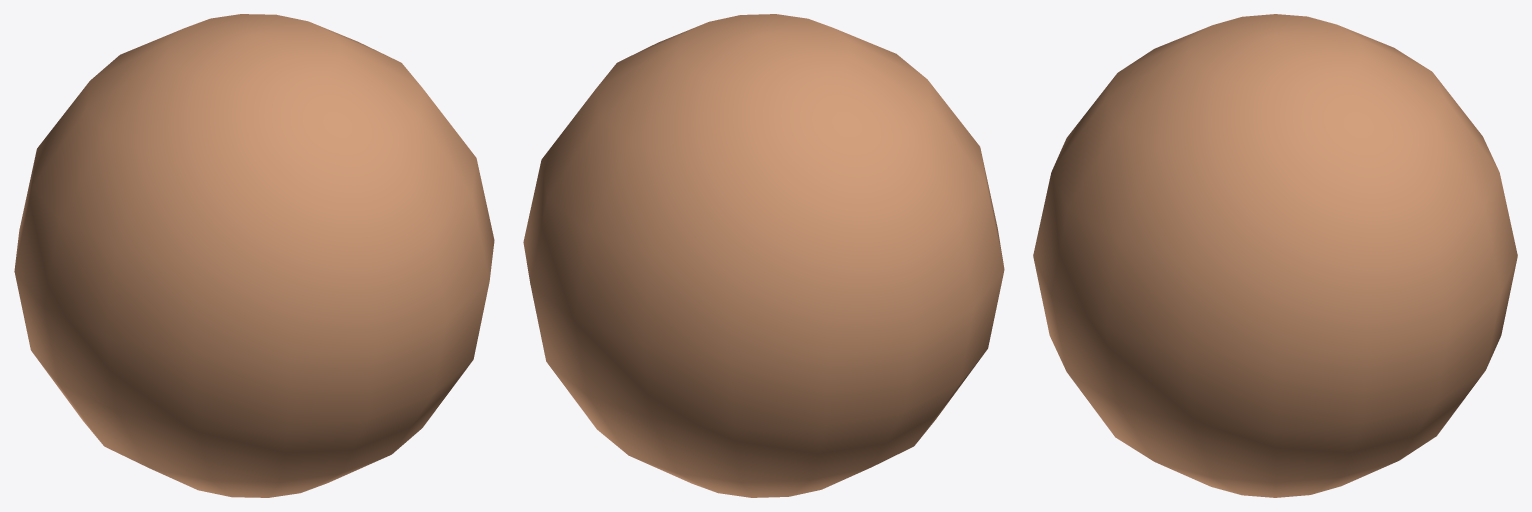
Rendered from TodaysDilemaNODE.gltf.
The picture shows the model from 3 angles, left to right: view 1: azimuth 30°, elevation 25°; view 2: azimuth 150°, elevation 25°; view 3: azimuth 270°, elevation 25°; orthographic projection.
Parts seen in each view (by area): view 1: TodaysDilemaNODE; view 2: TodaysDilemaNODE; view 3: TodaysDilemaNODE.
Part boxes in pixels (x1,y1,x2,y2): TodaysDilemaNODE: (14, 14, 494, 497); TodaysDilemaNODE: (523, 14, 1004, 497); TodaysDilemaNODE: (1033, 14, 1517, 497).
Size of the model in its own units: 0.5144 by 0.5144 by 0.5144.
